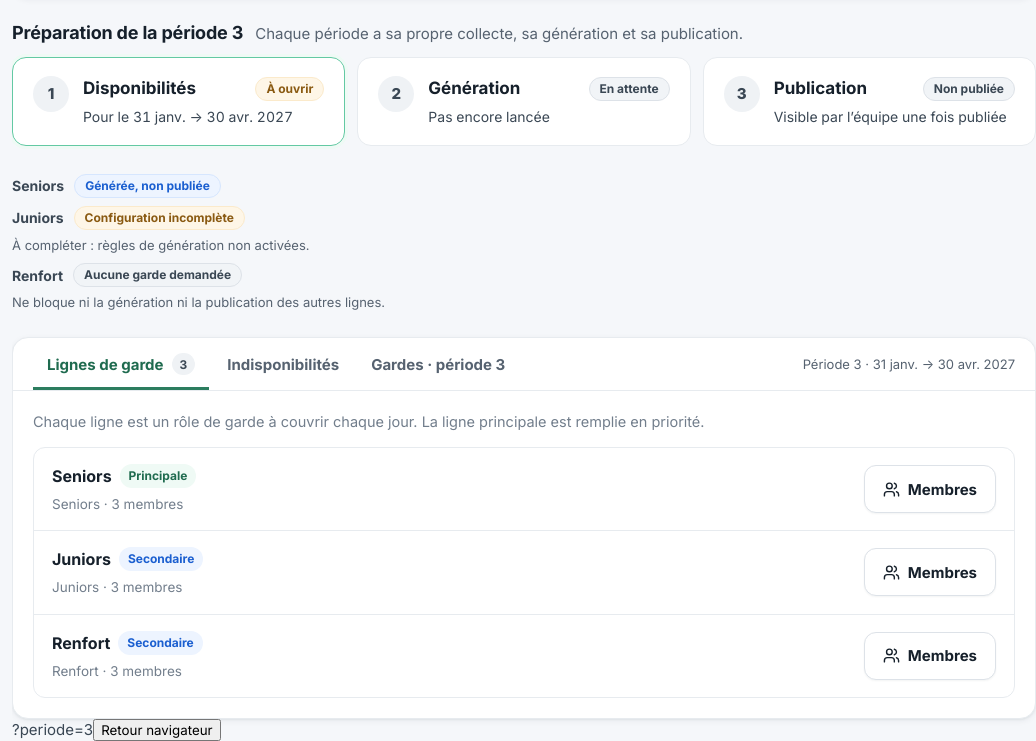
it: PlanningDetailPage — periods (lot L6) › shows a plain member no calendar for a period whose lines are only generated, never asking the server for it (D204)
The width and height of the screenshot is (1036, 741).
(page scrolled)
Click the tab "Gardes · période 3" at point(438, 364), box [357, 338, 519, 390]
(page scrolled)
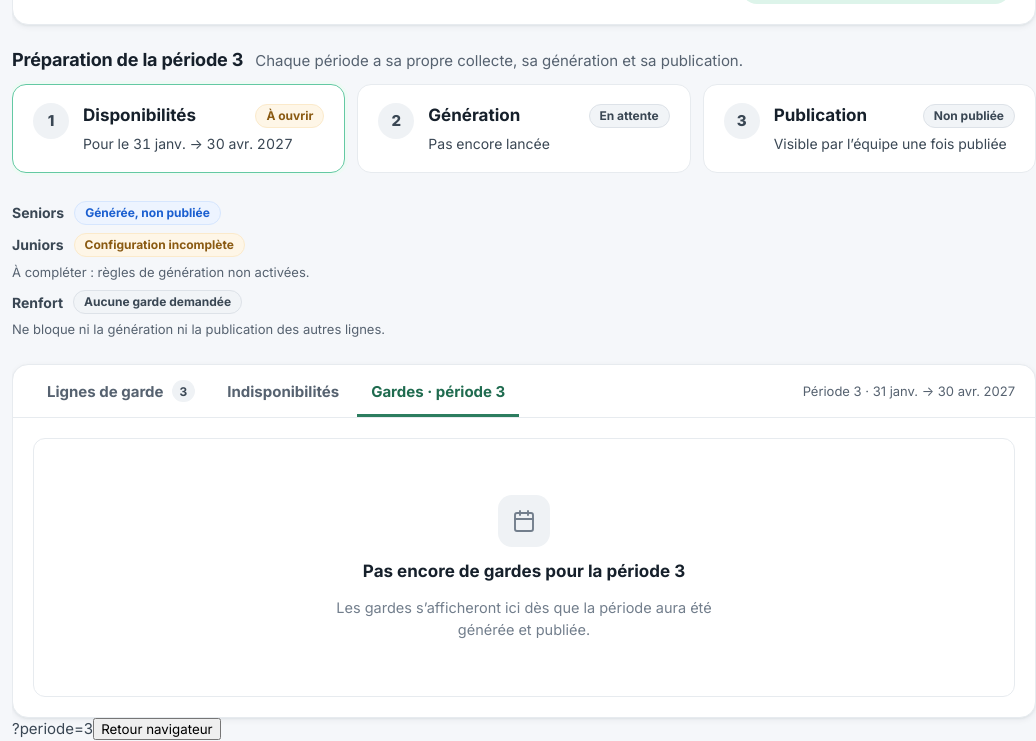
Now the text "Pas encore de gardes pour la période 3" is shown, box [363, 559, 685, 585]
Now the text "dès que la période aura été générée et publiée" is shown, box [336, 599, 712, 638]
